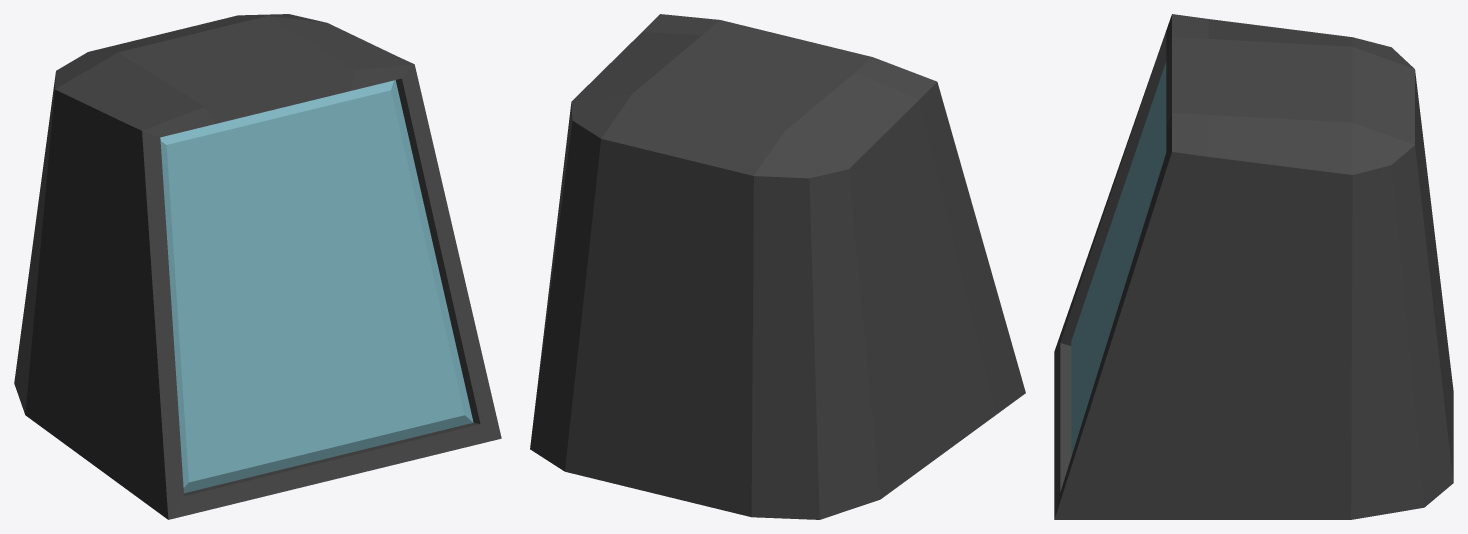
Rendered from Monitor.glb.
3 renders of one model, left to right at view 1: azimuth 30°, elevation 25°; view 2: azimuth 150°, elevation 25°; view 3: azimuth 270°, elevation 25°, orthographic. The views are drawn at different scales.
Parts seen in each view (by area): view 1: Monitor; view 2: Monitor; view 3: Monitor.
Part boxes in pixels (x1,y1,x2,y2): Monitor: [14, 14, 501, 519]; Monitor: [530, 14, 1025, 519]; Monitor: [1054, 14, 1453, 519].
Bounding box in the file's own units: 0.7943 × 0.7943 × 0.7943.
